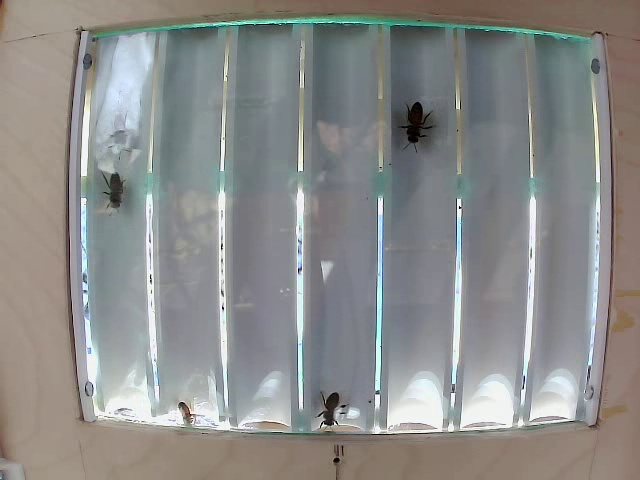bee: (311, 389, 351, 425), (92, 172, 129, 210), (393, 102, 420, 146)
